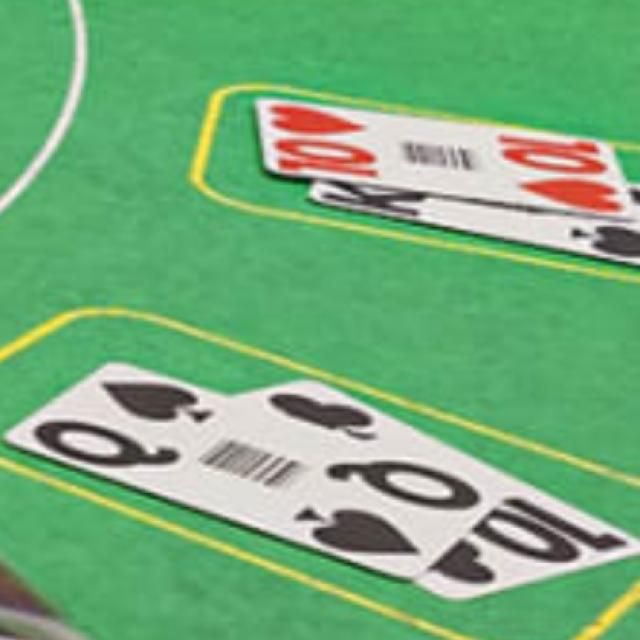Card-10: (228, 378, 638, 600), (256, 99, 633, 215)
Card-K: (309, 179, 639, 265)
Card-Q: (1, 360, 502, 580)
